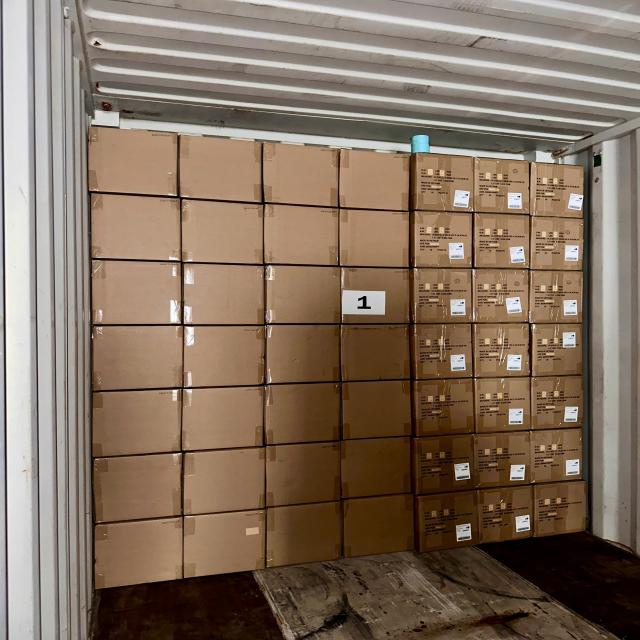Carton: (91, 125, 180, 197), (179, 133, 264, 207), (91, 195, 181, 264), (178, 511, 266, 581), (94, 326, 184, 391), (184, 197, 266, 268), (92, 524, 184, 587), (94, 259, 181, 324), (92, 456, 181, 519), (96, 391, 182, 453), (182, 263, 266, 324), (265, 263, 345, 327), (186, 387, 267, 450), (266, 141, 342, 207), (265, 504, 341, 569), (264, 201, 341, 265), (184, 452, 264, 512), (185, 326, 265, 385), (266, 444, 342, 505), (263, 383, 341, 442), (267, 323, 339, 384), (340, 266, 413, 326), (340, 148, 408, 212), (341, 500, 417, 556), (342, 439, 415, 496), (342, 324, 410, 384), (340, 384, 413, 439), (341, 208, 409, 266), (418, 493, 478, 555), (413, 380, 476, 435), (417, 152, 474, 212), (415, 210, 473, 268), (414, 324, 474, 380), (415, 266, 471, 323), (475, 157, 530, 215), (418, 436, 476, 491), (476, 212, 531, 269), (476, 268, 533, 322), (475, 379, 530, 434), (532, 485, 590, 537), (530, 428, 584, 482), (530, 268, 582, 324), (477, 324, 533, 376), (479, 434, 532, 488), (534, 216, 586, 271), (532, 162, 582, 219), (532, 322, 582, 376), (482, 491, 534, 541), (532, 378, 582, 428)
